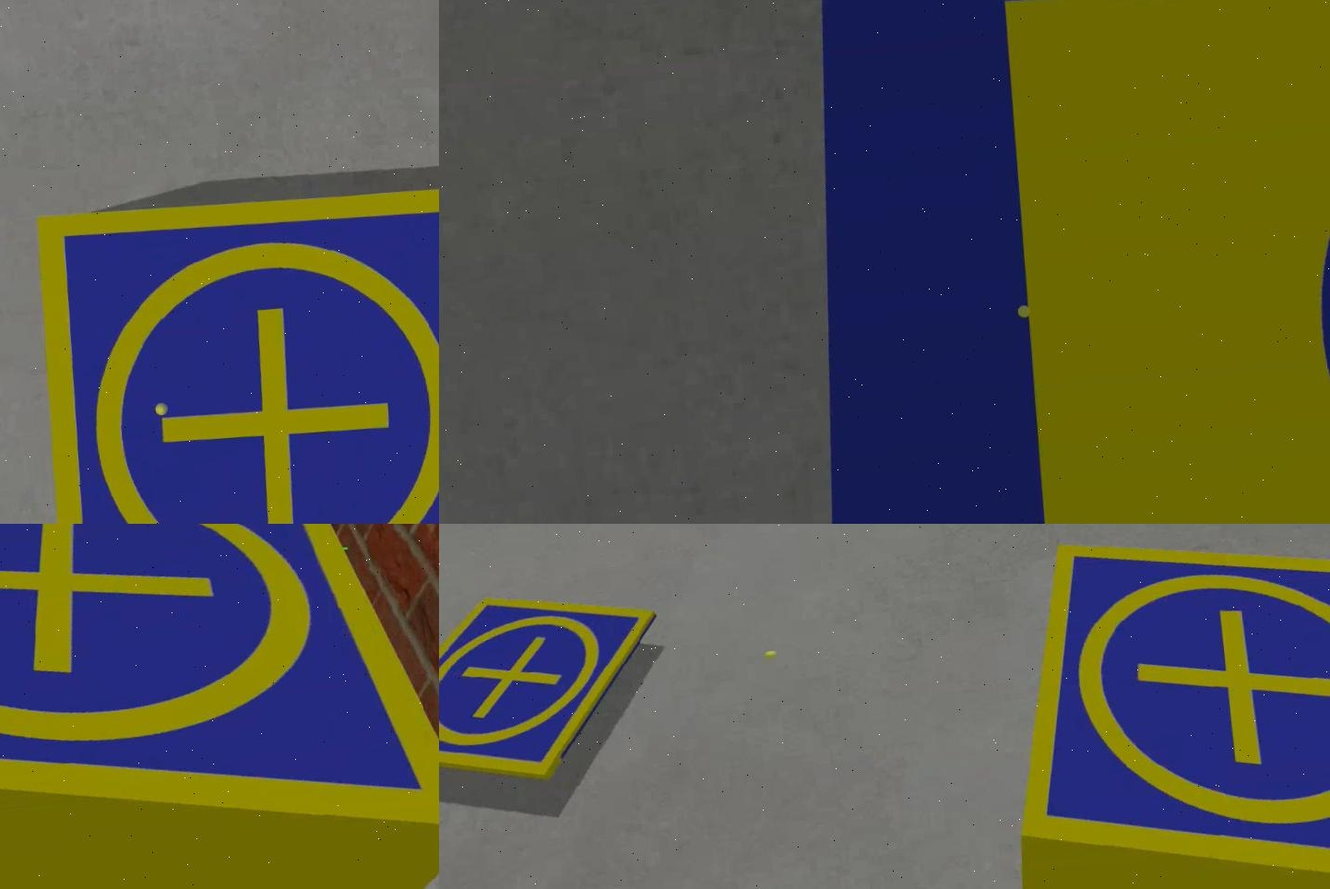large_base: (761, 1, 1328, 524)
small_base: (0, 524, 437, 889), (27, 172, 437, 524), (992, 524, 1328, 889), (437, 586, 665, 797)
